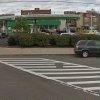Crosswalk: (8, 48, 100, 100)
